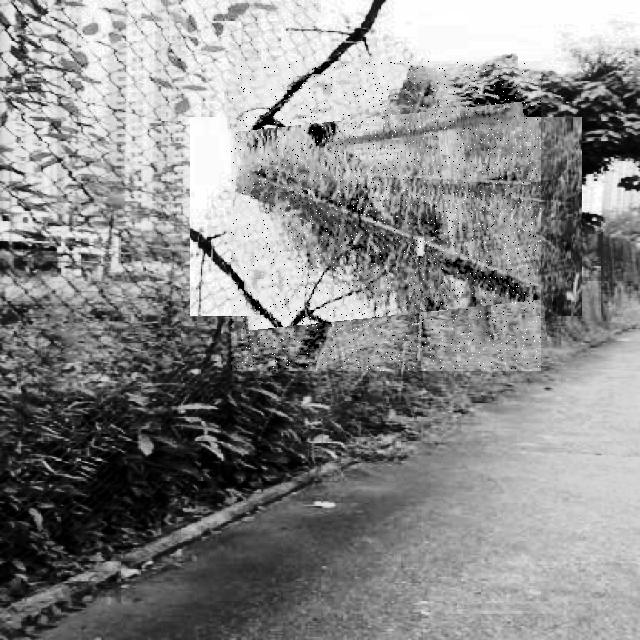anomaly-fence: (231, 61, 541, 371)
